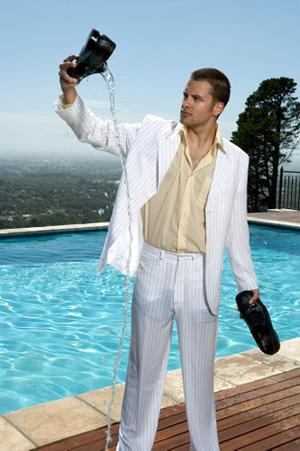person: (55, 54, 261, 449)
